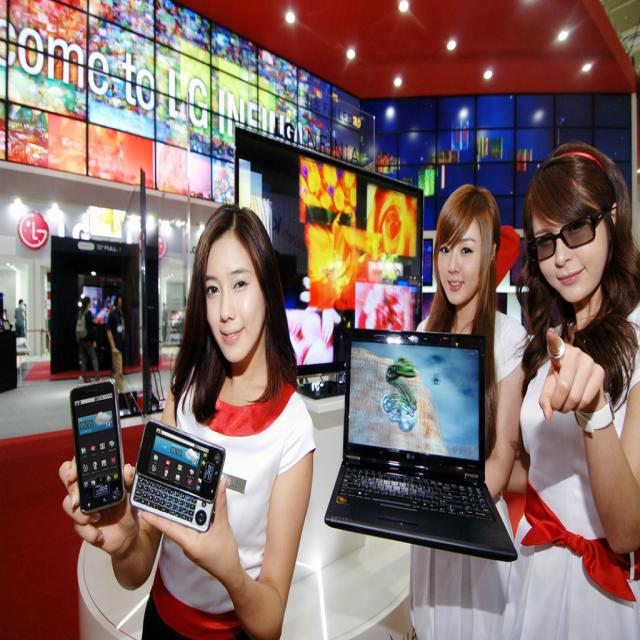Mobile-phone: (129, 420, 225, 532), (69, 375, 125, 534)
